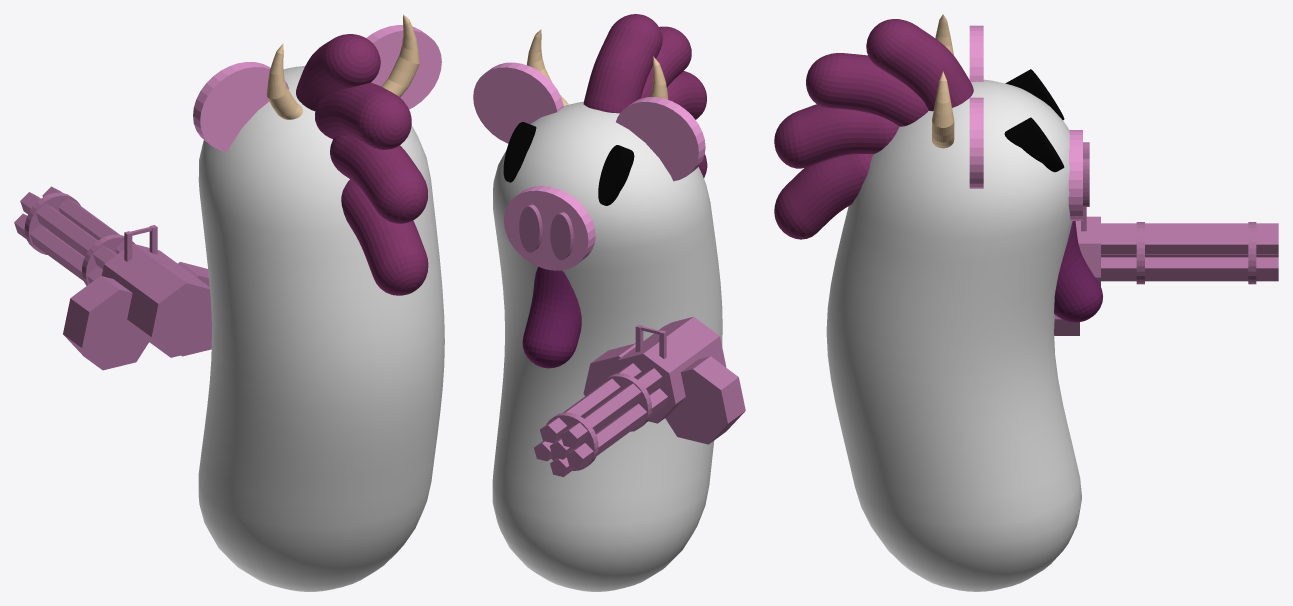
The model's file is boss.fbx.
3 views of the same model, side by side, from view 1: azimuth 30°, elevation 25°; view 2: azimuth 150°, elevation 25°; view 3: azimuth 270°, elevation 25° (orthographic). The views are drawn at different scales.
Parts seen in each view (by area): view 1: Sphere, Cylinder.008, Cylinder, Sphere.001, Sphere.002, Sphere.003, Sphere.004, Cylinder.001; view 2: Sphere, Cylinder.008, Cylinder, Sphere.004, Sphere.005, Cylinder.002, Sphere.003, Sphere.002, Cylinder.001; view 3: Sphere, Cylinder.008, Sphere.003, Sphere.002, Sphere.004, Sphere.001, Cylinder, Sphere.005, Cylinder.002, Cylinder.001.
Boxes of the visible parts, x1,y1,x2,y2 form: Sphere: (198, 66, 444, 591); Cylinder.008: (14, 186, 211, 370); Cylinder: (193, 25, 441, 151); Sphere.001: (341, 179, 428, 295); Sphere.002: (330, 135, 427, 223); Sphere.003: (315, 82, 411, 149); Sphere.004: (296, 34, 380, 110); Cylinder.001: (266, 14, 419, 119); Sphere: (492, 101, 722, 591); Cylinder.008: (534, 316, 745, 476); Cylinder: (473, 62, 705, 270); Sphere.004: (583, 14, 662, 113); Sphere.005: (522, 267, 581, 368); Cylinder.002: (503, 122, 634, 205); Sphere.003: (641, 26, 691, 98); Sphere.002: (667, 71, 706, 119); Cylinder.001: (527, 29, 668, 105); Sphere: (826, 79, 1081, 591); Cylinder.008: (1054, 207, 1278, 335); Sphere.003: (806, 53, 928, 126); Sphere.002: (774, 104, 899, 168); Sphere.004: (866, 19, 973, 111); Sphere.001: (774, 154, 872, 239); Cylinder: (969, 25, 1089, 220); Sphere.005: (1054, 221, 1102, 322); Cylinder.002: (1004, 69, 1064, 172); Cylinder.001: (932, 14, 954, 148).
Size of the model in its own units: 319 by 543 by 444.
